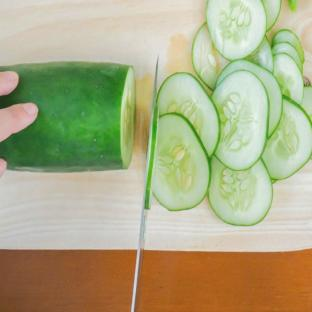Cucumber: (0, 62, 135, 172), (212, 70, 268, 170), (154, 114, 210, 210), (157, 73, 219, 156), (217, 60, 282, 136), (209, 157, 272, 225), (263, 97, 311, 179), (192, 23, 218, 89), (274, 53, 303, 104), (145, 99, 158, 209), (272, 29, 304, 63), (246, 36, 273, 72), (272, 43, 302, 73), (302, 86, 311, 119), (272, 180, 277, 184)
